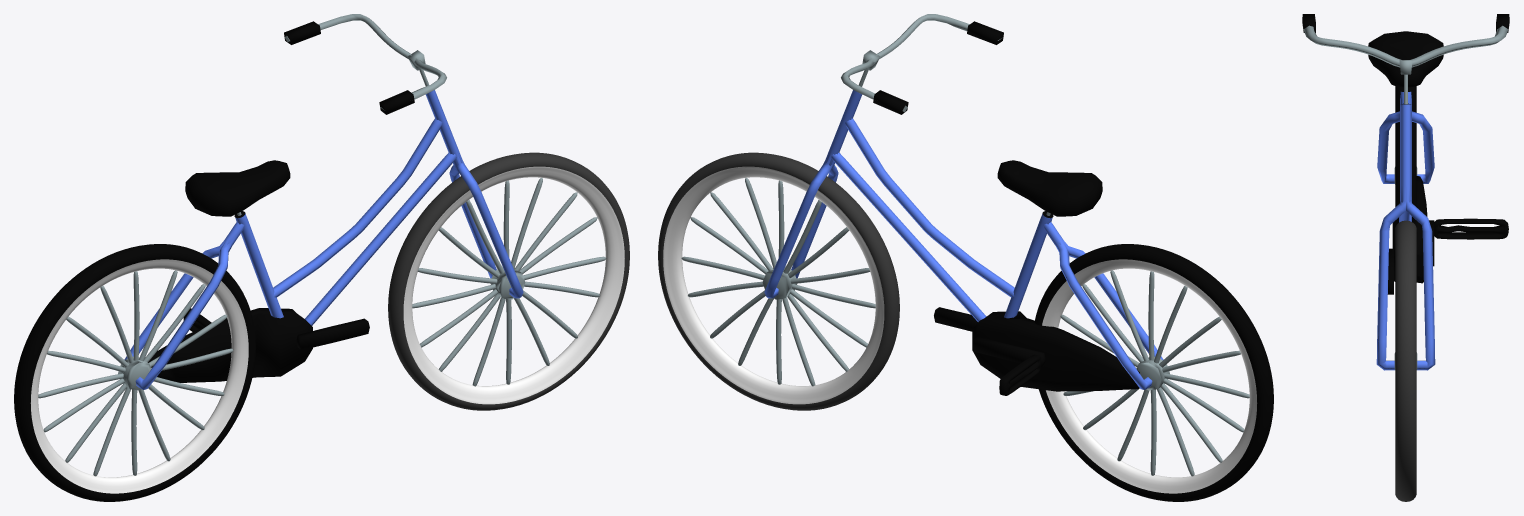
The model's file is Bike.fbx.
3 renders of one model, left to right at view 1: azimuth 30°, elevation 25°; view 2: azimuth 150°, elevation 25°; view 3: azimuth 270°, elevation 25°, orthographic. The views are drawn at different scales.
Visible parts, largest first — view 1: Bike_Draft.016; view 2: Bike_Draft.016; view 3: Bike_Draft.016.
Boxes of the visible parts, x1,y1,x2,y2 form: Bike_Draft.016: (14,14,629,501); Bike_Draft.016: (658,14,1273,501); Bike_Draft.016: (1302,14,1509,501).
Bounding box in the file's own units: 92.55 × 56.1 × 26.51.
